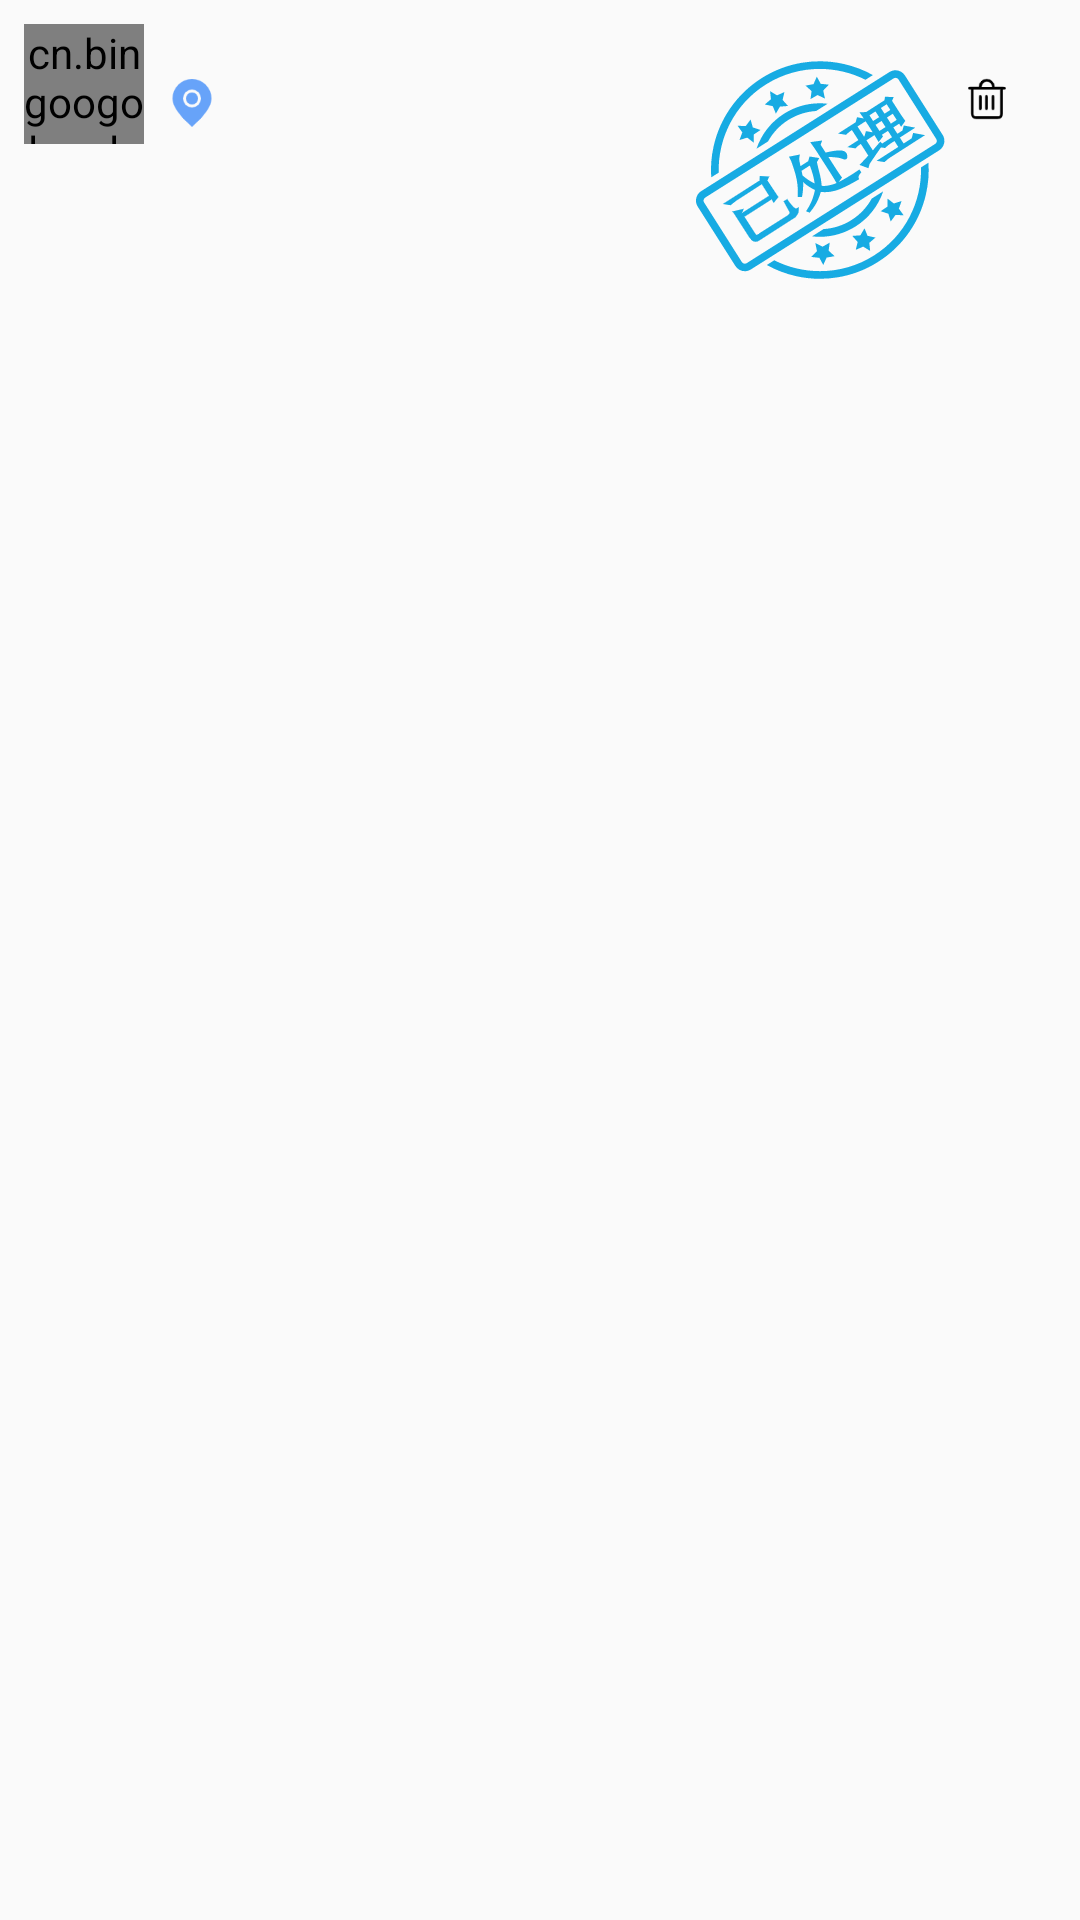

Where to tap for icons on this 1080x1920 app screen, as (x=x, y=y):
delete: (x=987, y=99)
